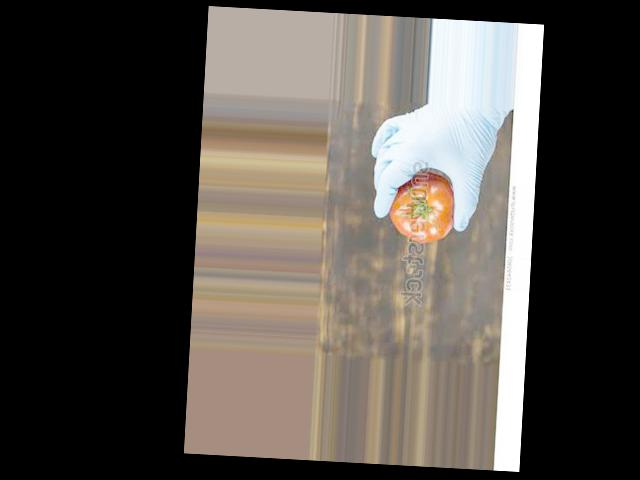tomato: (388, 170, 457, 245)
